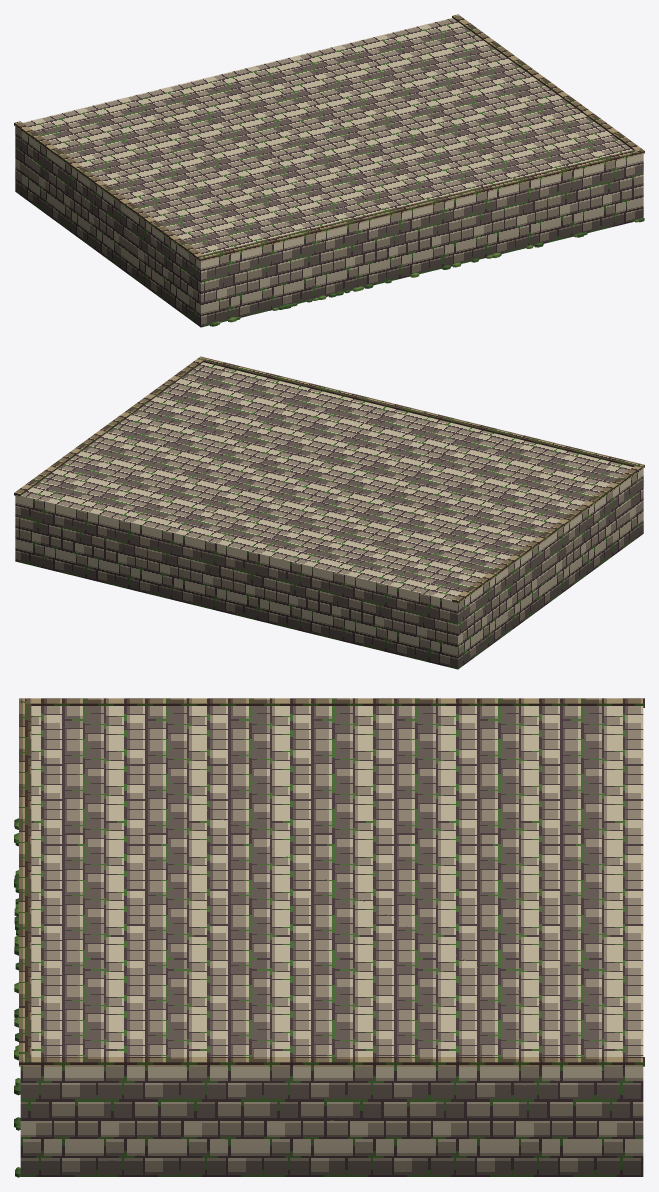
File: scene_wall_n.glb
3 renders of one model, top to bottom at view 1: azimuth 30°, elevation 25°; view 2: azimuth 150°, elevation 25°; view 3: azimuth 270°, elevation 25°, orthographic. The views are drawn at different scales.
Visible parts, largest first — view 1: scene_wall_n; view 2: scene_wall_n; view 3: scene_wall_n.
Boxes of the visible parts, x1=… form: scene_wall_n: x1=14, y1=14, x2=644, y2=327; scene_wall_n: x1=14, y1=356, x2=644, y2=669; scene_wall_n: x1=14, y1=698, x2=644, y2=1177.
Size of the model in its own units: 24.9 by 3.77 by 18.24.
2 materials, 1 textured.
